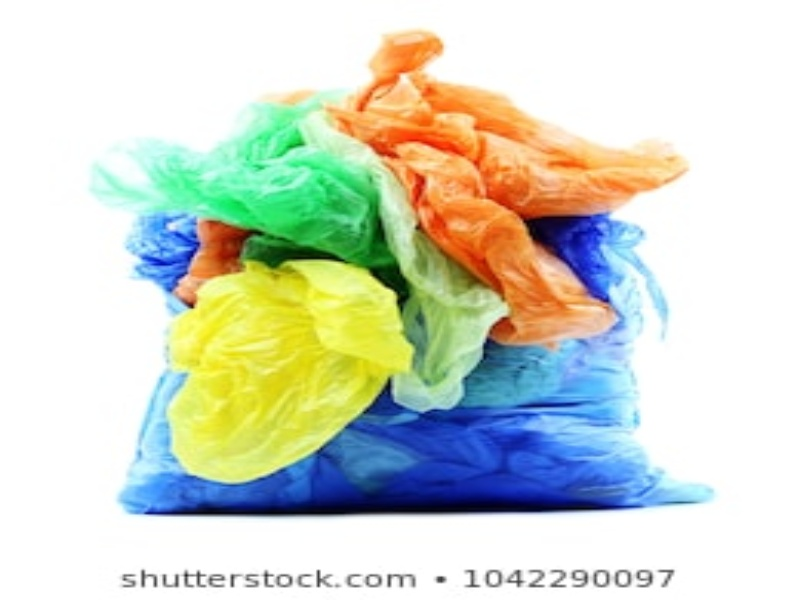plastic-bag: (125, 293, 715, 509), (327, 31, 685, 336), (300, 109, 506, 408), (84, 89, 404, 261), (165, 263, 409, 483), (528, 213, 677, 335), (181, 218, 253, 297), (120, 214, 204, 278)
